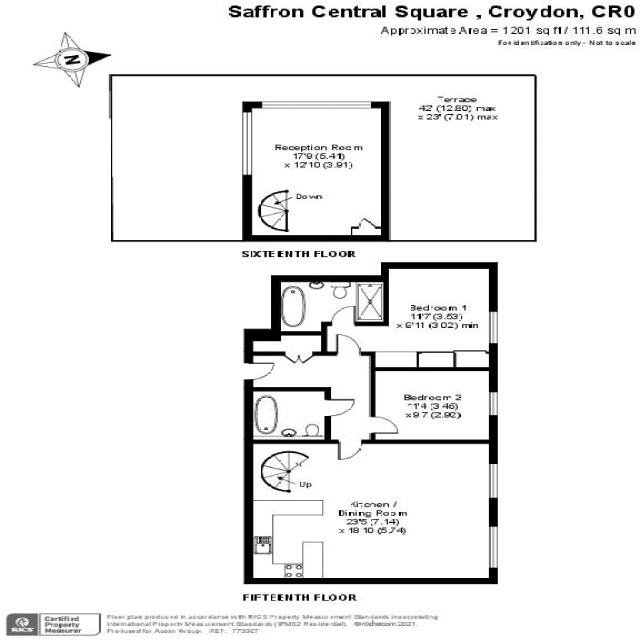DOOR: (324, 396, 357, 419), (334, 333, 363, 356), (369, 415, 402, 435), (243, 361, 276, 381), (330, 304, 358, 326), (336, 440, 364, 461)
ROOM: (244, 439, 500, 584), (242, 101, 390, 241), (321, 262, 498, 371), (370, 367, 498, 444)
WINDOW: (258, 100, 371, 110), (241, 110, 254, 178), (487, 523, 501, 570), (487, 461, 500, 500), (487, 310, 500, 345), (488, 391, 500, 417)
